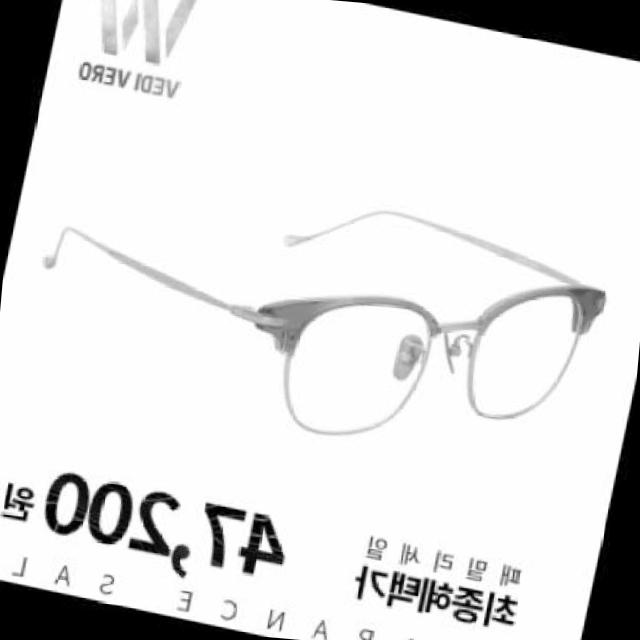glasses: (7, 134, 624, 488)
